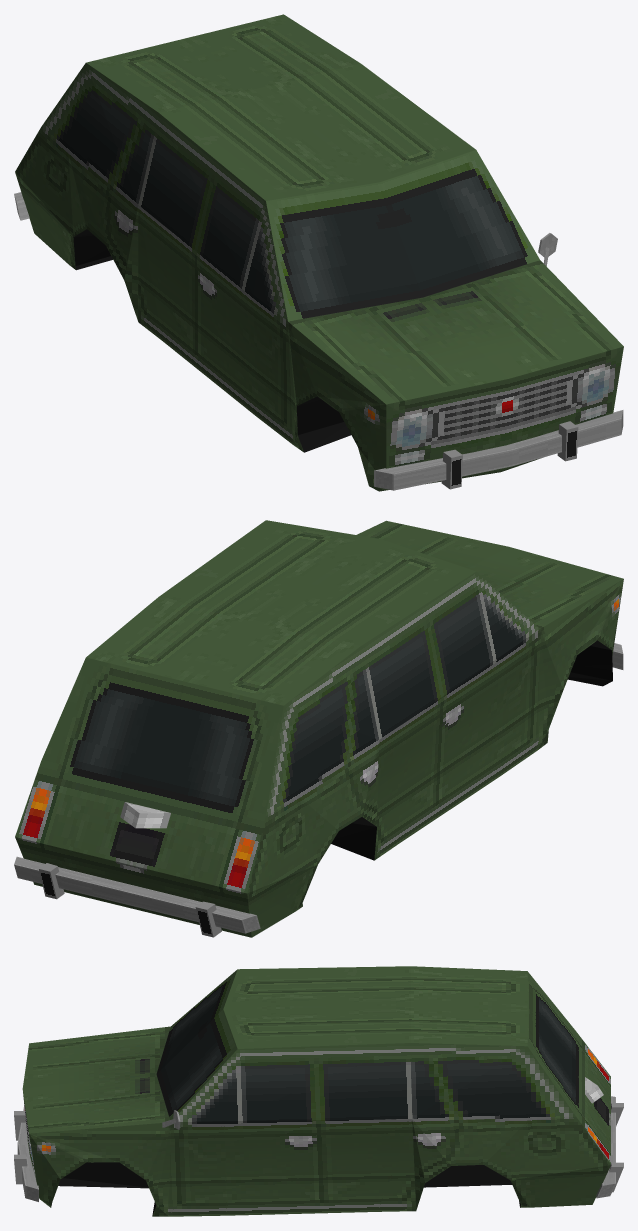
File: Car_body.glb
The picture shows the model from 3 angles, top to bottom: view 1: azimuth 30°, elevation 25°; view 2: azimuth 150°, elevation 25°; view 3: azimuth 270°, elevation 25°; orthographic projection. The views are drawn at different scales.
Parts seen in each view (by area): view 1: Car; view 2: Car; view 3: Car.
Boxes of the visible parts, x1,y1,x2,y2 form: Car: (14,14,623,491); Car: (14,520,623,937); Car: (14,966,623,1216).
Bounding box in the file's own units: 2.56 × 1.85 × 6.15.
Materials: 1 (1 with a texture image).
